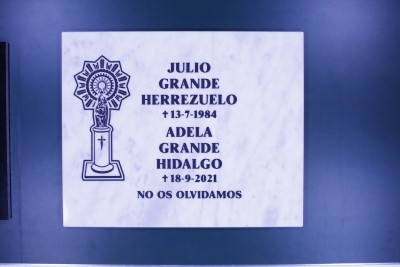lapidas: (61, 31, 303, 226)
